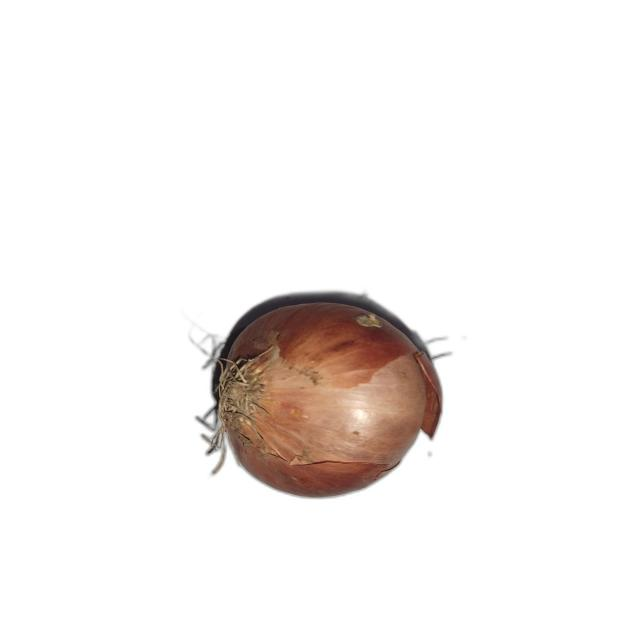onion: (202, 302, 444, 498)
